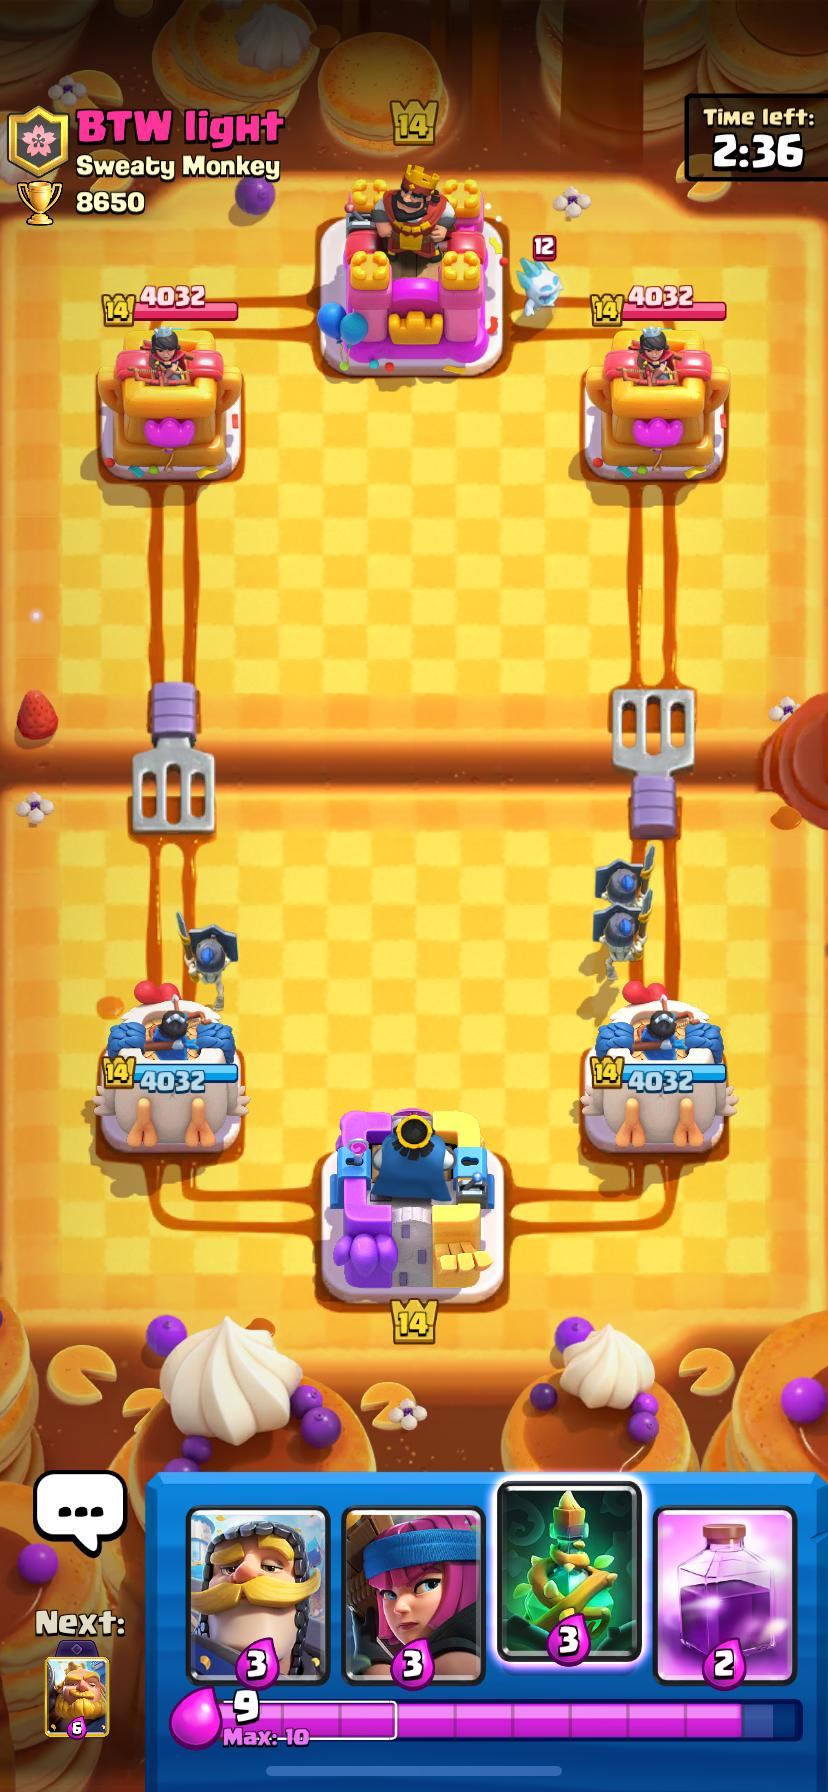EIceSpirit: (517, 235, 562, 325)
EKingTower: (316, 167, 503, 377)
EnemyPrincessTower: (582, 327, 729, 481), (97, 325, 242, 480)
OGuard: (176, 911, 237, 1008), (596, 843, 655, 915), (594, 903, 648, 981)
OwnKingTower: (321, 1109, 503, 1303)
OwnPrincessTower: (93, 983, 248, 1152), (581, 982, 735, 1151)
